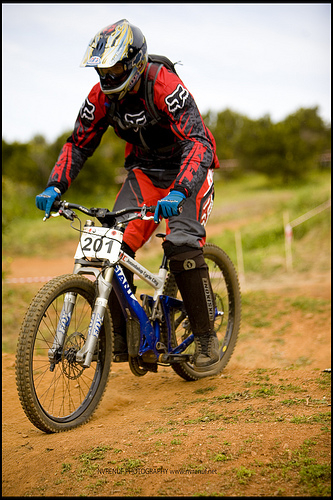helmet: (91, 26, 150, 98)
